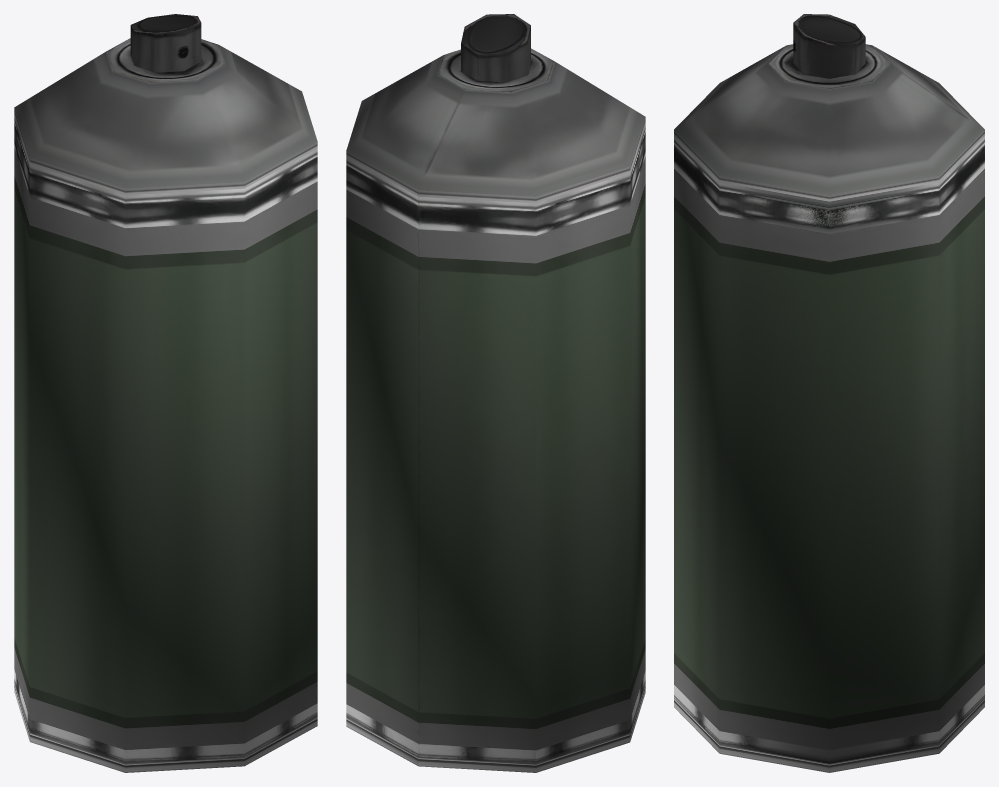
The model's file is Spray_Fat.fbx.
The picture shows the model from 3 angles, left to right: view 1: azimuth 30°, elevation 25°; view 2: azimuth 150°, elevation 25°; view 3: azimuth 270°, elevation 25°; orthographic projection.
Visible parts, largest first — view 1: SprayLow; view 2: SprayLow; view 3: SprayLow.
Part boxes in pixels (x1,y1,x2,y2): SprayLow: (14, 14, 317, 772); SprayLow: (346, 14, 645, 772); SprayLow: (674, 14, 984, 772).
Size of the model in its own units: 217 by 526 by 217.
